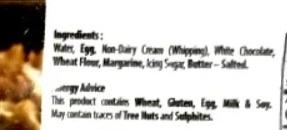ingredients: (51, 17, 284, 85)
